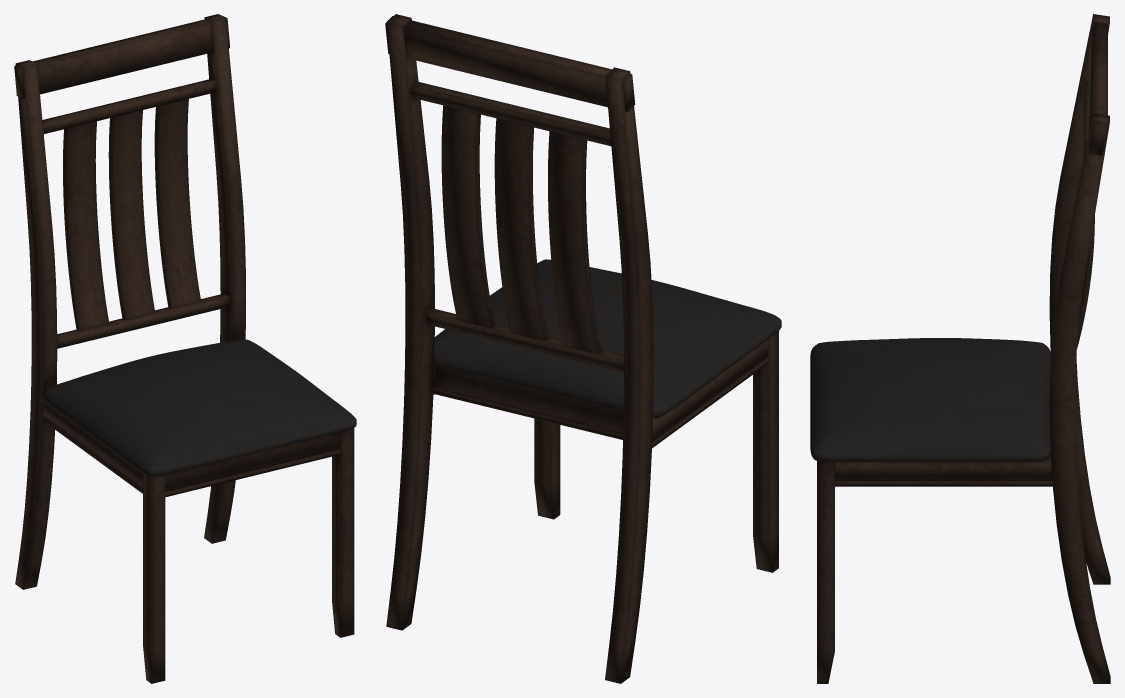
File: kitchen_chair_wood.glb
The picture shows the model from 3 angles, left to right: view 1: azimuth 30°, elevation 25°; view 2: azimuth 150°, elevation 25°; view 3: azimuth 270°, elevation 25°; orthographic projection. The views are drawn at different scales.
Parts seen in each view (by area): view 1: Wooden kitchen chair; view 2: Wooden kitchen chair; view 3: Wooden kitchen chair.
Boxes of the visible parts, x1,y1,x2,y2 form: Wooden kitchen chair: (14,14,356,683); Wooden kitchen chair: (385,14,781,683); Wooden kitchen chair: (810,14,1110,683).
Bounding box in the file's own units: 0.4999 × 1.18 × 0.5679.
Materials: 1 (1 with a texture image).
